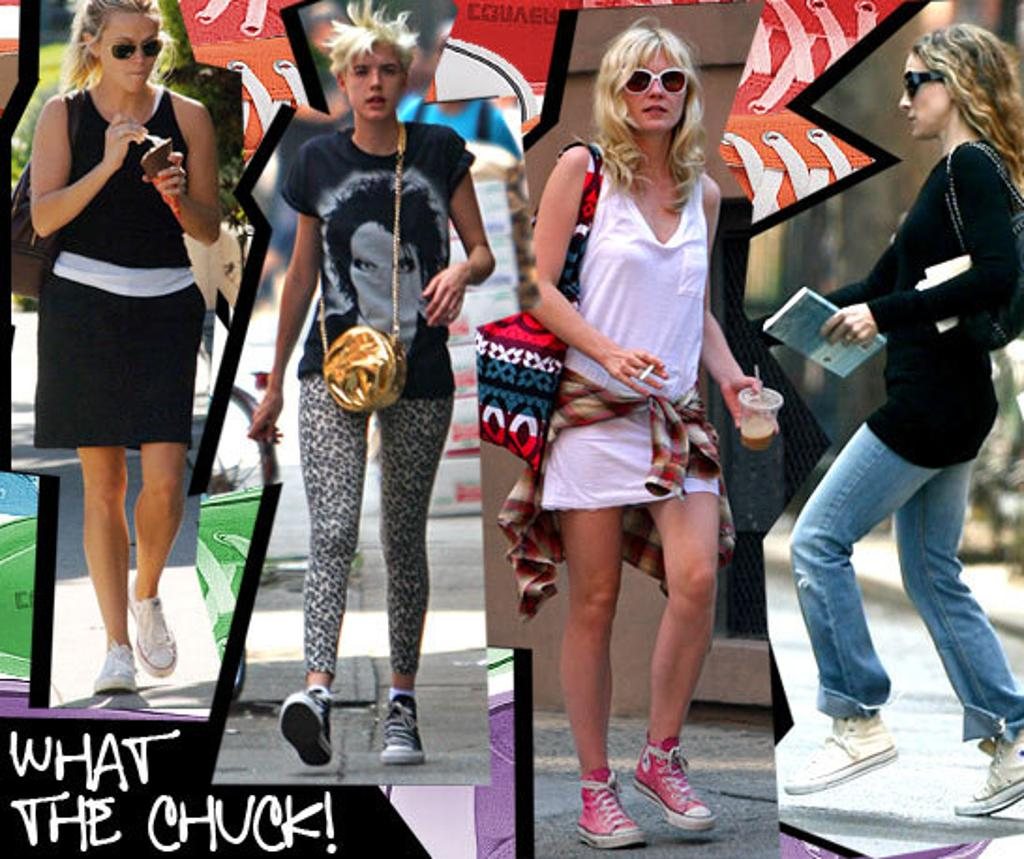face: (622, 44, 688, 132), (900, 42, 960, 138), (342, 42, 404, 118), (98, 16, 162, 88)
